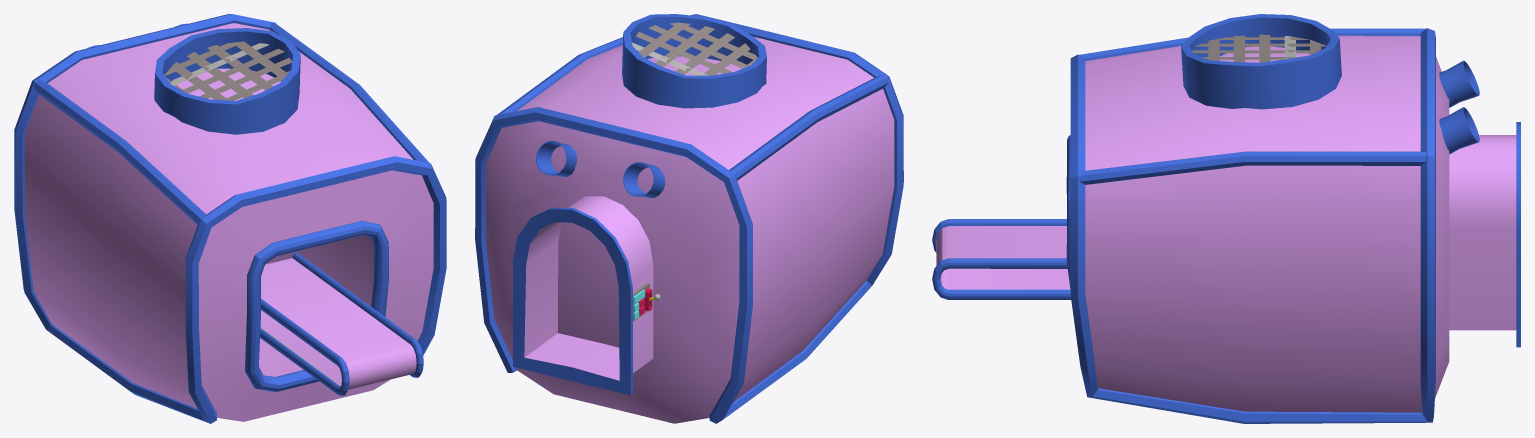
The model's file is pres_machine_02.fbx.
The picture shows the model from 3 angles, left to right: view 1: azimuth 30°, elevation 25°; view 2: azimuth 150°, elevation 25°; view 3: azimuth 270°, elevation 25°; orthographic projection. The views are drawn at different scales.
Visible parts, largest first — view 1: pres_machine_02; view 2: pres_machine_02; view 3: pres_machine_02.
Boxes of the visible parts, <box> form: pres_machine_02: <box>14,14,446,423</box>; pres_machine_02: <box>475,14,903,423</box>; pres_machine_02: <box>932,14,1520,423</box>.
Size of the model in its own units: 753 by 825 by 1269.
